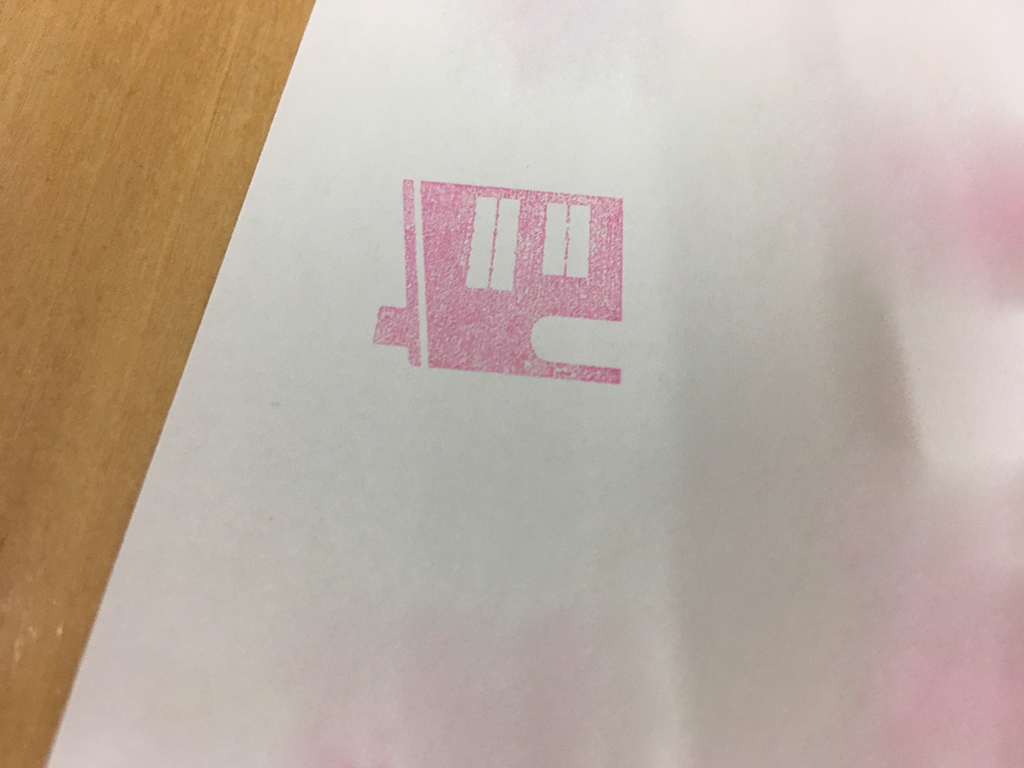house: (363, 167, 636, 402)
